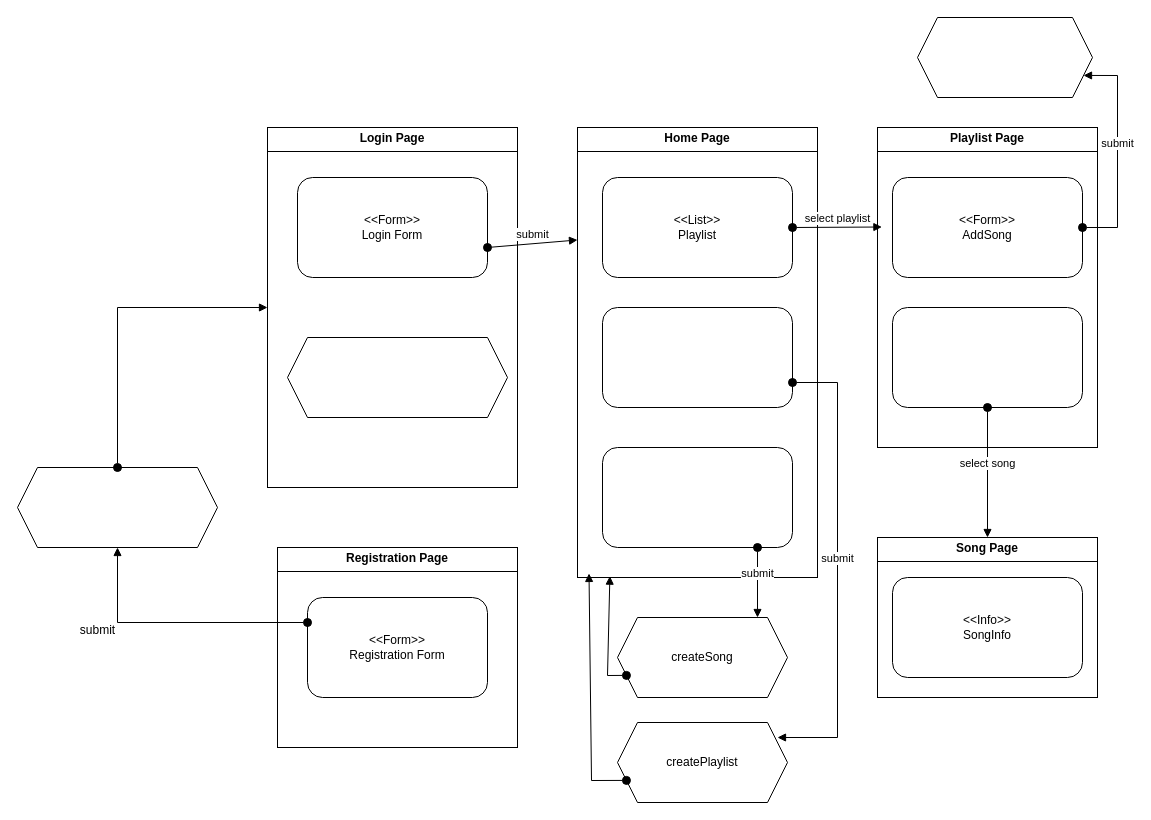
This 1151x820 diagram has some shape labels left out. The centre of each missing label's shape, as x and y in pixels:
"<<Form>> CreatePlaylist" goes at point 697,357.
"<<Form>> CreateSong" goes at point 697,497.
"<<List>> Songs" goes at point 987,357.
"addSong" goes at point 1004,57.
"createUser" goes at point 117,507.
"GoRegistrationPage" goes at point 397,377.
